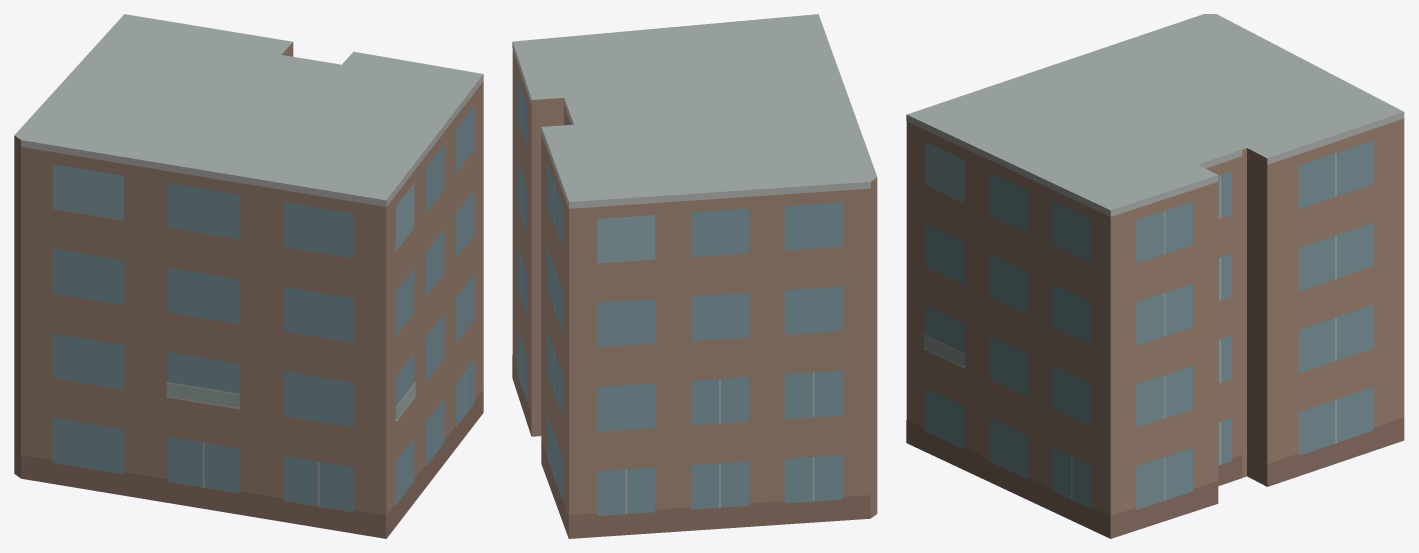
File: survey-upis-32641376.glb
The picture shows the model from 3 angles, left to right: view 1: azimuth 30°, elevation 25°; view 2: azimuth 150°, elevation 25°; view 3: azimuth 270°, elevation 25°; orthographic projection. The views are drawn at different scales.
Visible parts, largest first — view 1: survey-upis-32641376.tmp; view 2: survey-upis-32641376.tmp; view 3: survey-upis-32641376.tmp.
Part boxes in pixels (<box>): survey-upis-32641376.tmp: <box>14,14,483,538</box>; survey-upis-32641376.tmp: <box>512,14,877,538</box>; survey-upis-32641376.tmp: <box>906,14,1404,538</box>.
Bounding box in the file's own units: 15.65 × 12.2 × 16.76.
